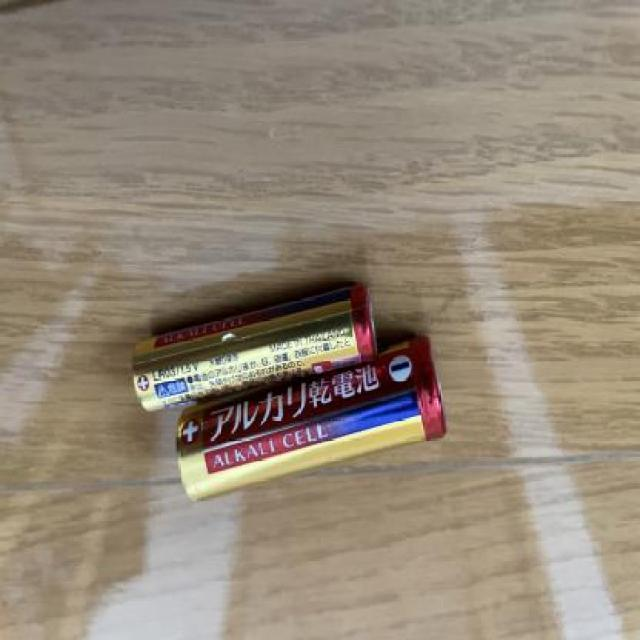hazardous waste: (170, 330, 452, 510), (132, 280, 380, 416)
